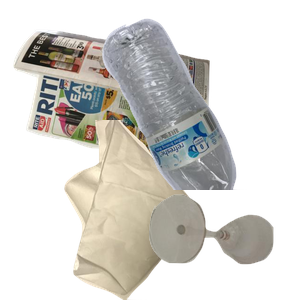glass: (147, 192, 300, 300)
paper: (11, 27, 213, 185)
plastic: (100, 16, 300, 196)
trash: (62, 120, 251, 300)
